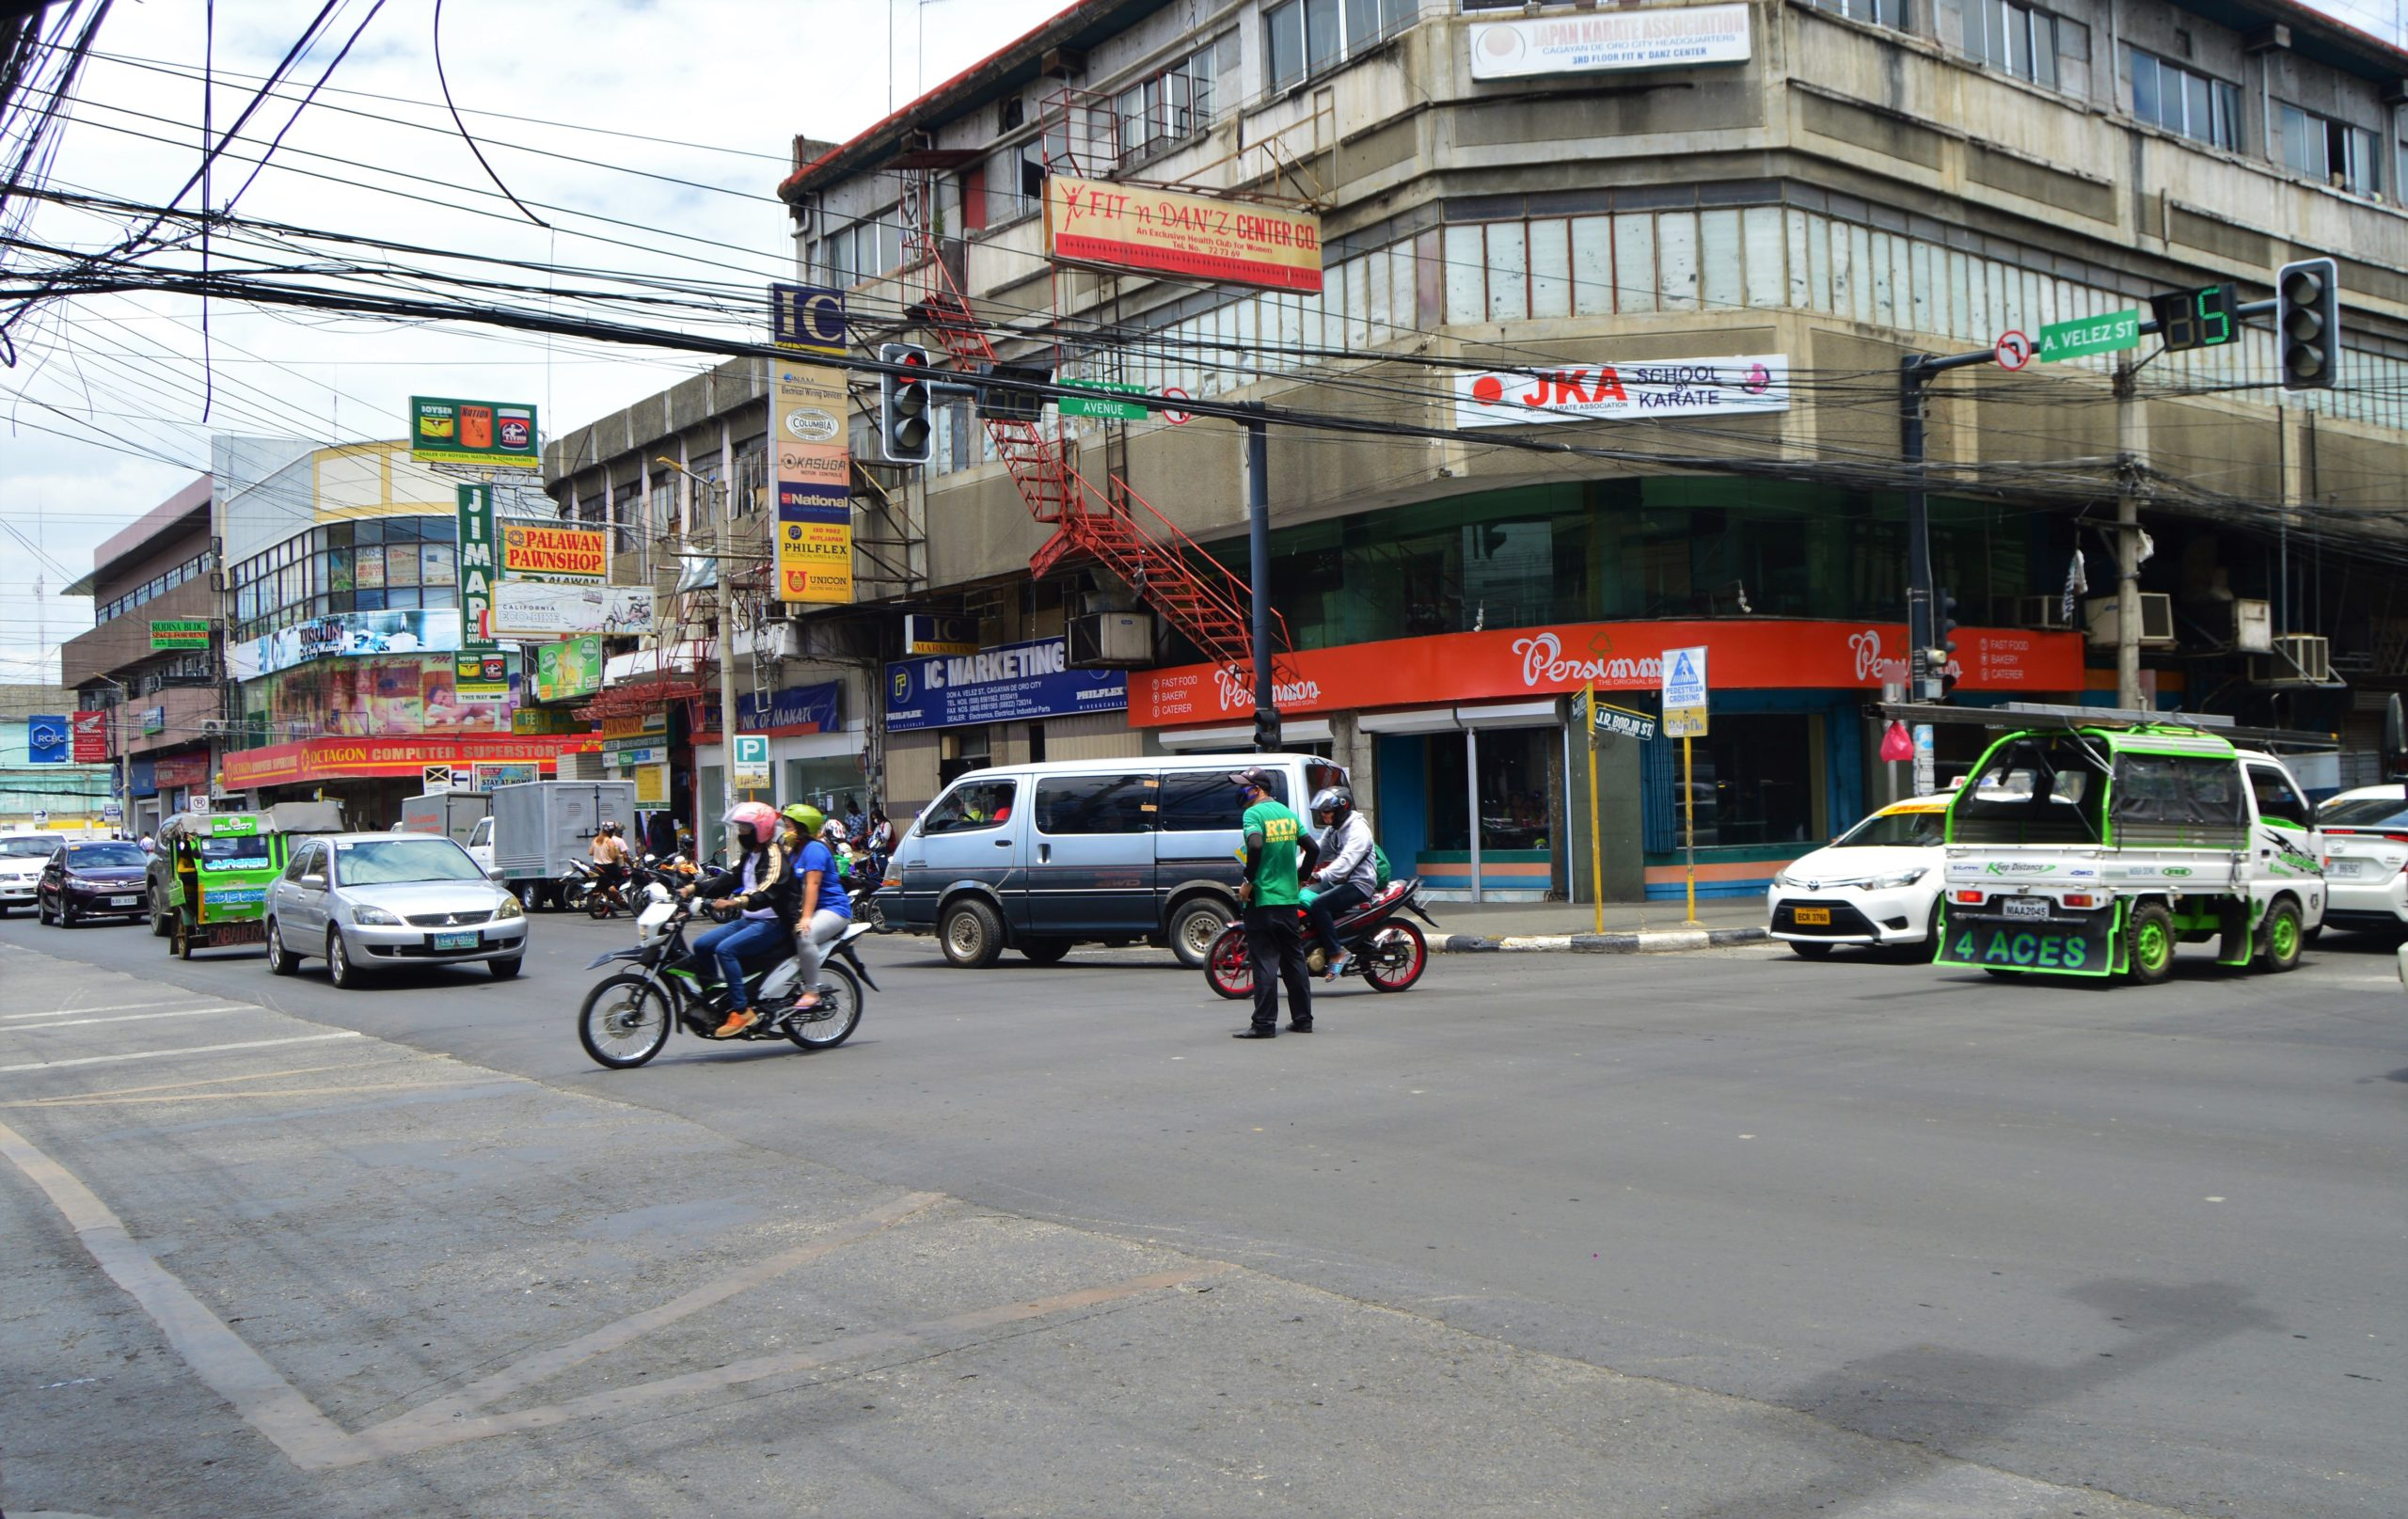bike: (582, 901, 872, 1066), (1214, 877, 1428, 993)
car: (1949, 722, 2333, 985), (884, 755, 1347, 950), (276, 834, 533, 989), (1771, 793, 1949, 959), (37, 843, 148, 922)
person: (1233, 766, 1318, 1038), (701, 802, 787, 1036), (784, 804, 848, 1011), (1311, 784, 1378, 980)
pole: (1903, 356, 1939, 696), (714, 480, 744, 893), (1245, 403, 1276, 704), (2115, 356, 2138, 709), (1586, 680, 1611, 934), (1684, 736, 1699, 926)
traffic light: (2278, 256, 2339, 392), (2147, 282, 2242, 350), (1254, 705, 1283, 752)
